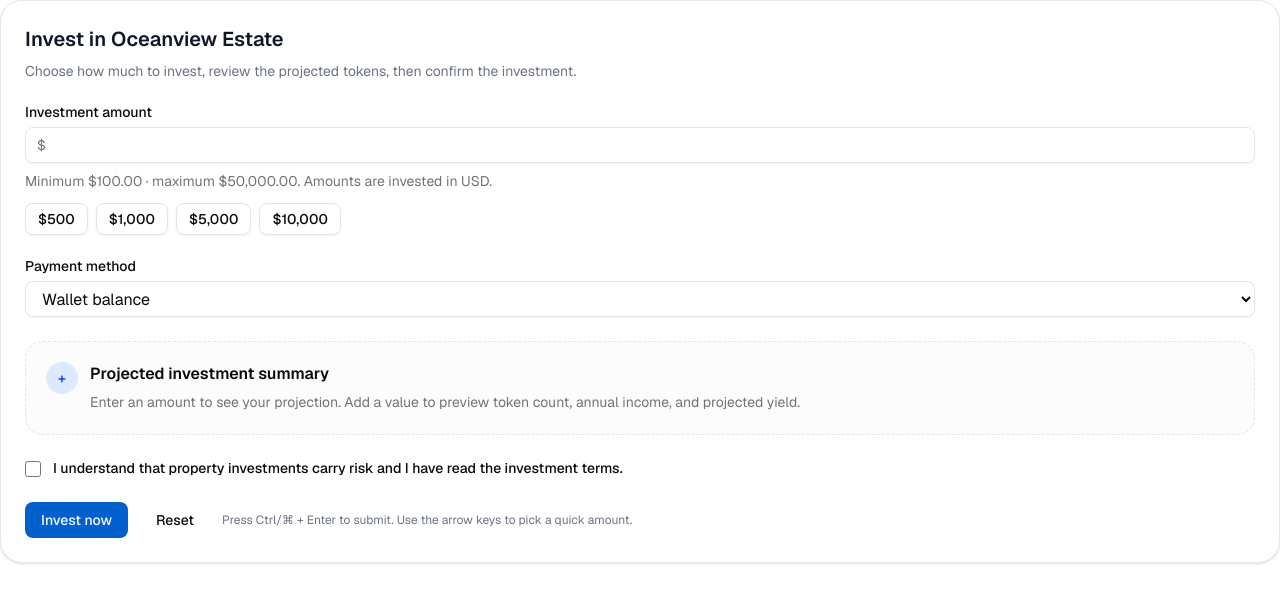
Test: InvestmentForm › clears the amount error as soon as the amount is corrected
Click the checkbox at (33,469), box [25,461,41,477]
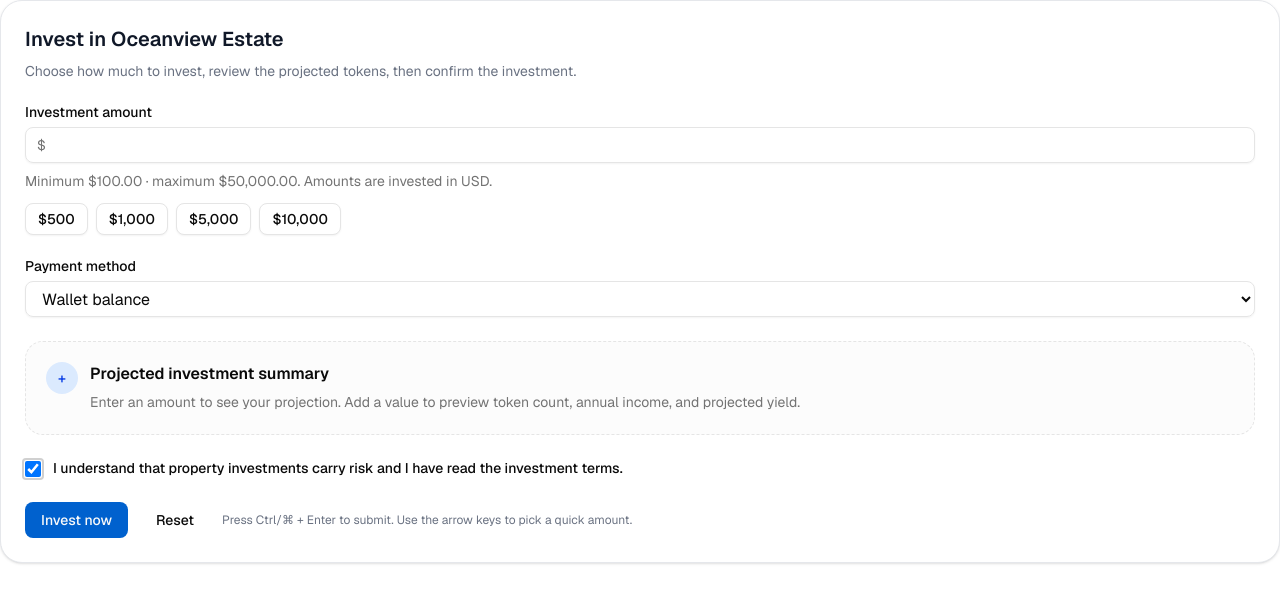
Click the button "Invest now" at (76,520), box [25,502,128,538]
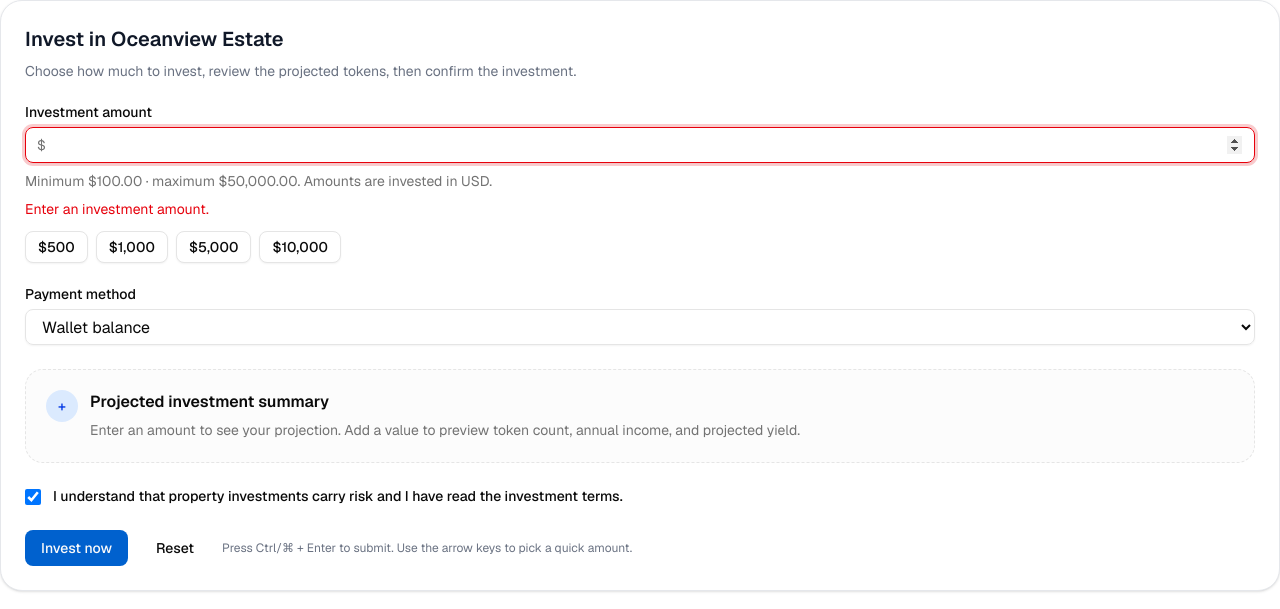
Result: the message reads "Enter an investment amount." at [25,200,209,218]
Type "500" into the number field labelled "Investment amount" at (640,145), box [25,127,1255,163]
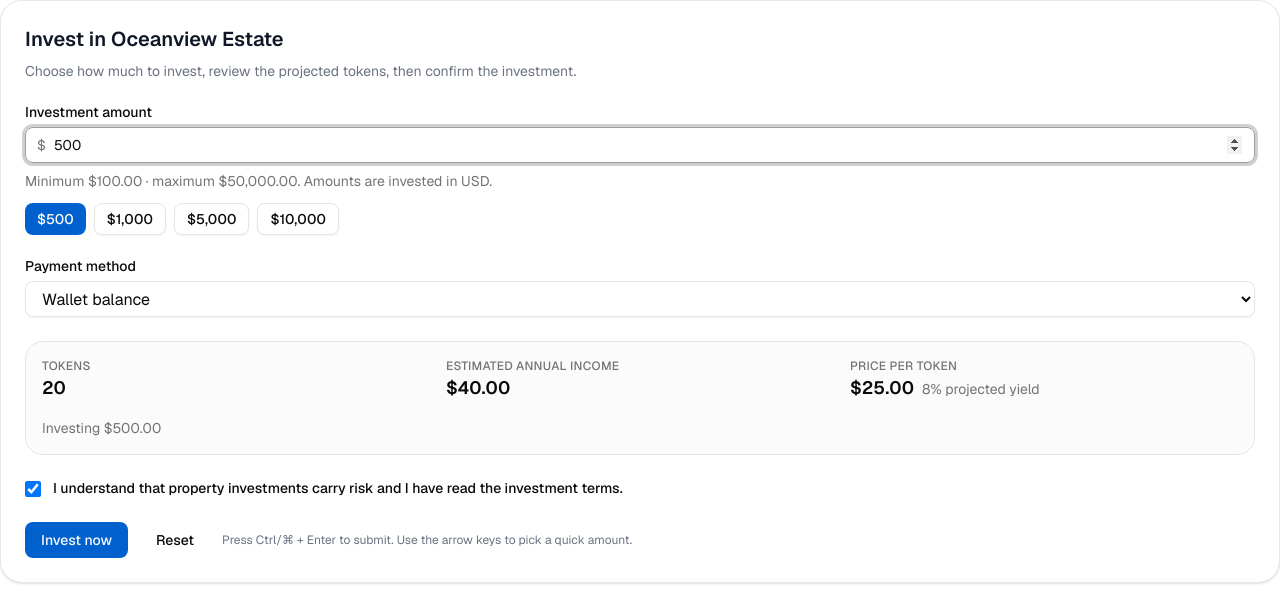
Result: the text "Enter an investment amount." is gone
